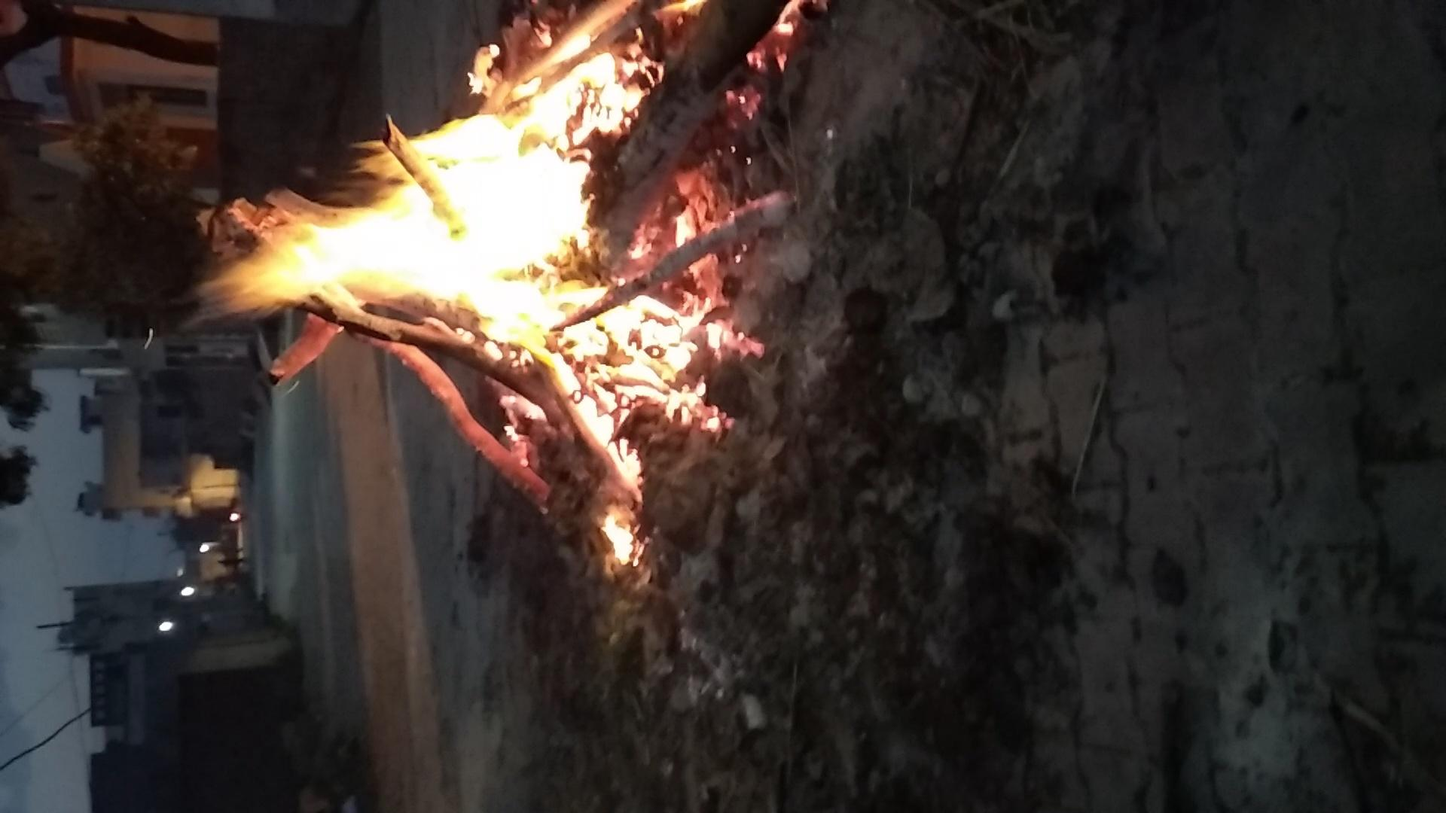fire: (620, 101, 1342, 434)
